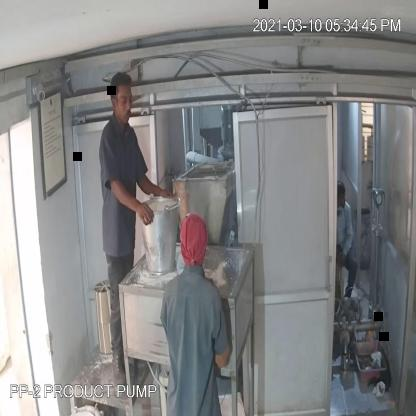no_glove: (111, 172, 160, 231), (133, 164, 171, 206)
